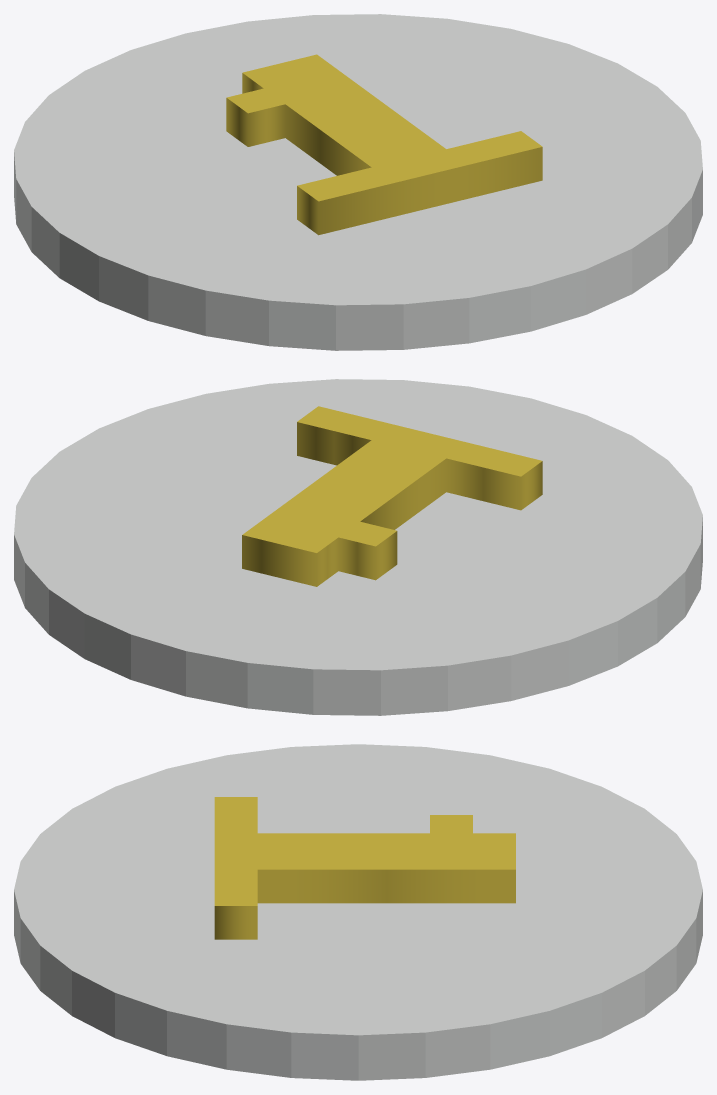
The model's file is generic_coin_with_text.fbx.
3 renders of one model, top to bottom at view 1: azimuth 30°, elevation 25°; view 2: azimuth 150°, elevation 25°; view 3: azimuth 270°, elevation 25°, orthographic.
Parts seen in each view (by area): view 1: Circle, Text; view 2: Circle, Text; view 3: Circle, Text.
Boxes of the visible parts, <box> form: Circle: <box>14,14,702,350</box>; Text: <box>226,54,542,235</box>; Circle: <box>14,379,702,715</box>; Text: <box>242,406,542,586</box>; Circle: <box>14,744,702,1080</box>; Text: <box>214,797,515,939</box>.
Size of the model in its own units: 200 by 26.82 by 200.
